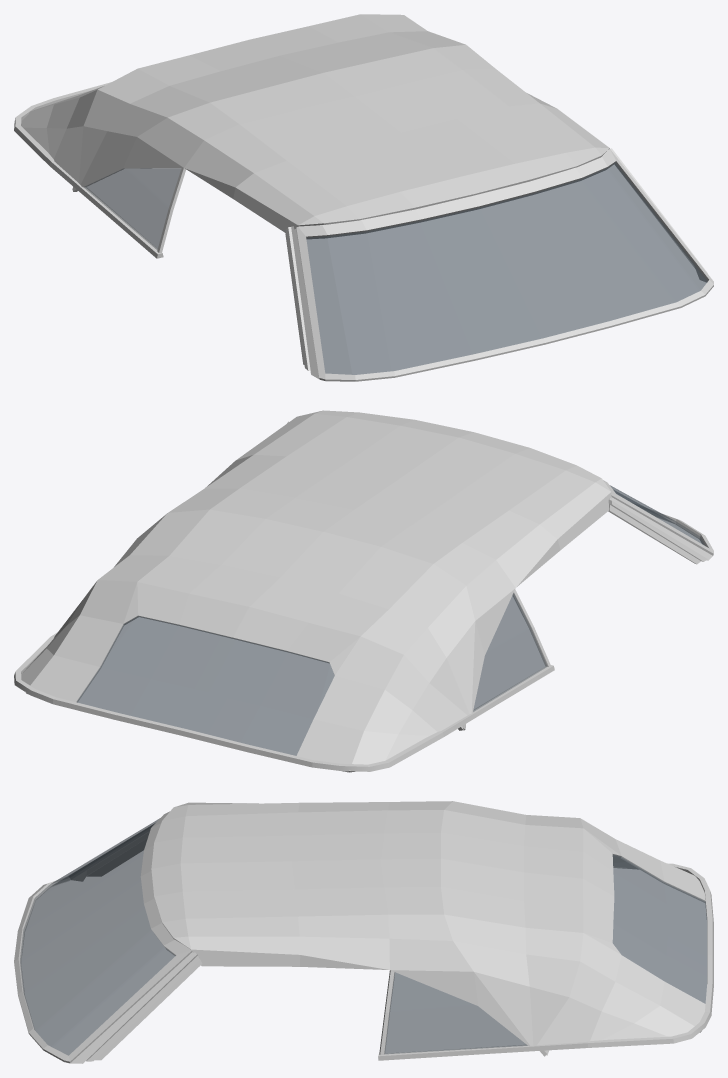
Rendered from Muscle_01_Roof_02.glb.
The picture shows the model from 3 angles, top to bottom: view 1: azimuth 30°, elevation 25°; view 2: azimuth 150°, elevation 25°; view 3: azimuth 270°, elevation 25°; orthographic projection. The views are drawn at different scales.
Visible parts, largest first — view 1: SM_Veh_Muscle_01_Roof_02, SM_Veh_Muscle_01_Roof_02_Glass; view 2: SM_Veh_Muscle_01_Roof_02, SM_Veh_Muscle_01_Roof_02_Glass; view 3: SM_Veh_Muscle_01_Roof_02, SM_Veh_Muscle_01_Roof_02_Glass.
Part boxes in pixels (x1,y1,x2,y2): SM_Veh_Muscle_01_Roof_02: (14,14,713,381); SM_Veh_Muscle_01_Roof_02_Glass: (84,162,707,374); SM_Veh_Muscle_01_Roof_02: (14,410,713,772); SM_Veh_Muscle_01_Roof_02_Glass: (77,485,705,755); SM_Veh_Muscle_01_Roof_02: (14,801,713,1063); SM_Veh_Muscle_01_Roof_02_Glass: (20,818,707,1055).
Size of the model in its own units: 1.79 by 0.5033 by 2.82.
